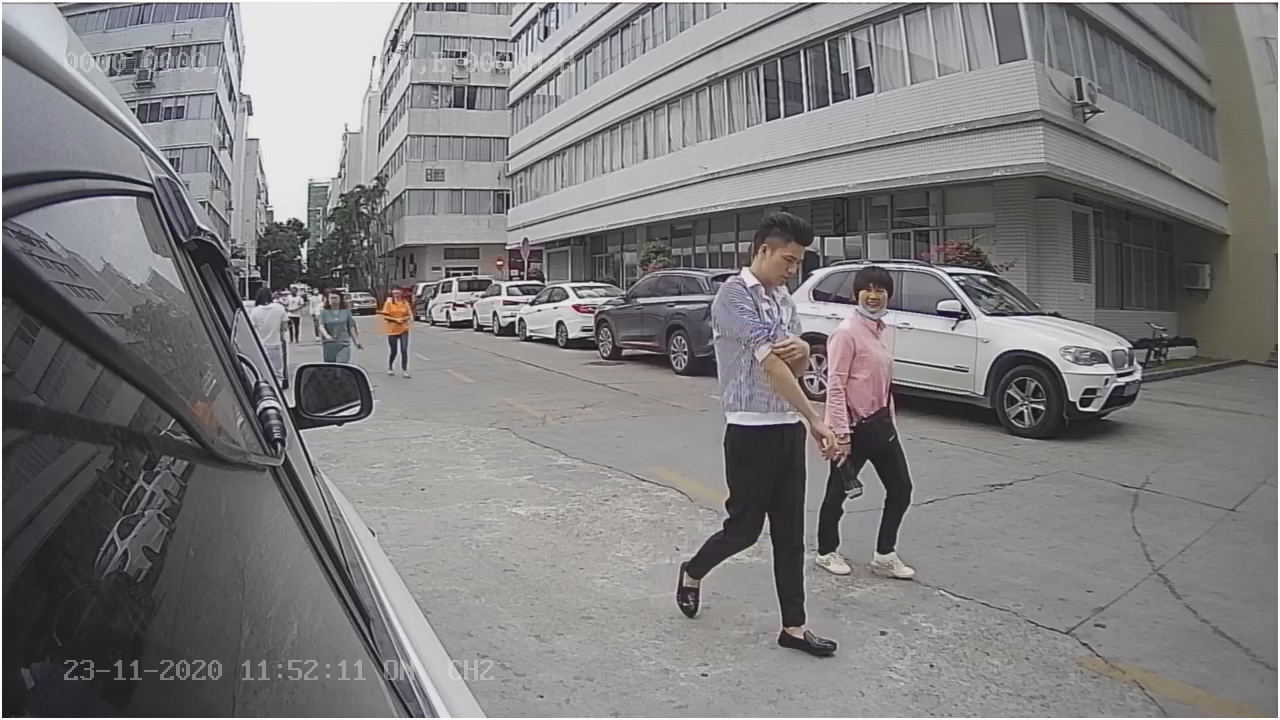person: (675, 208, 842, 661)
